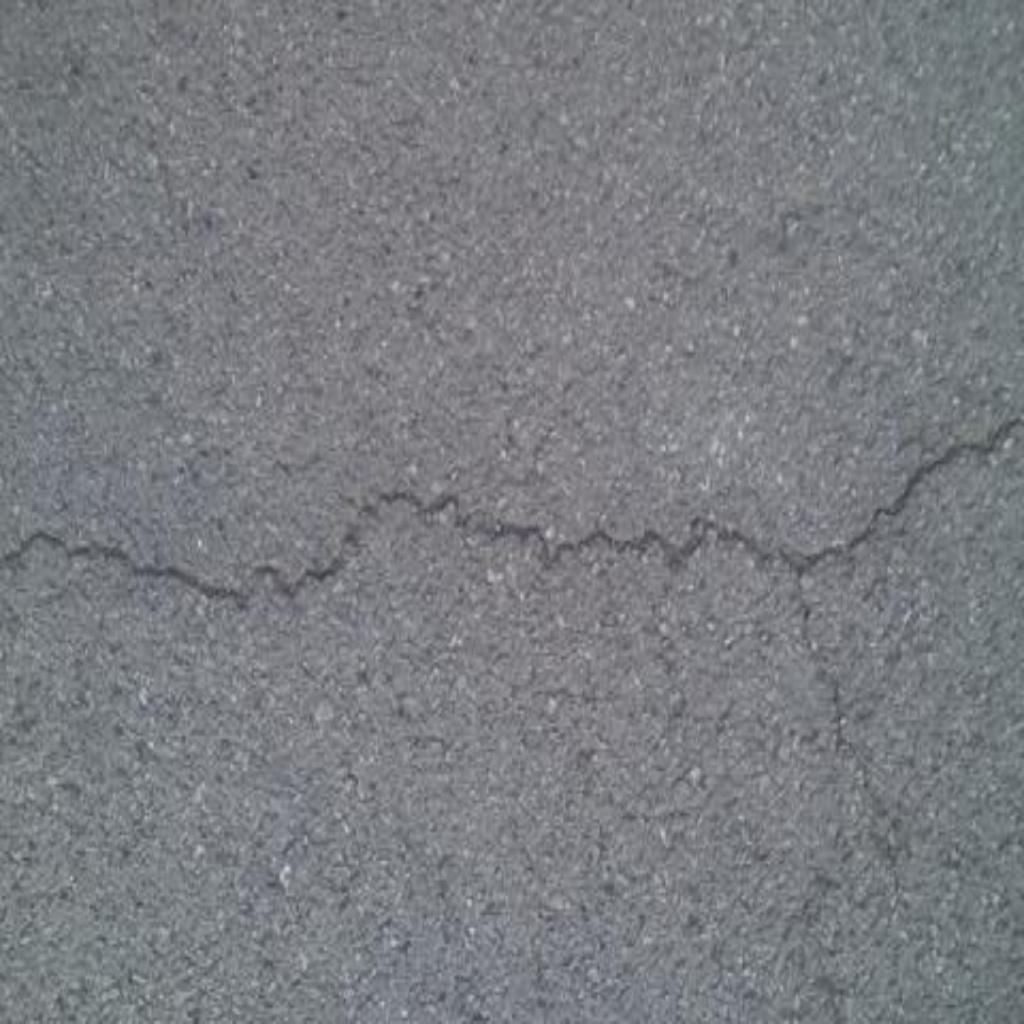Crack: (1, 413, 1024, 613), (798, 571, 858, 752)
